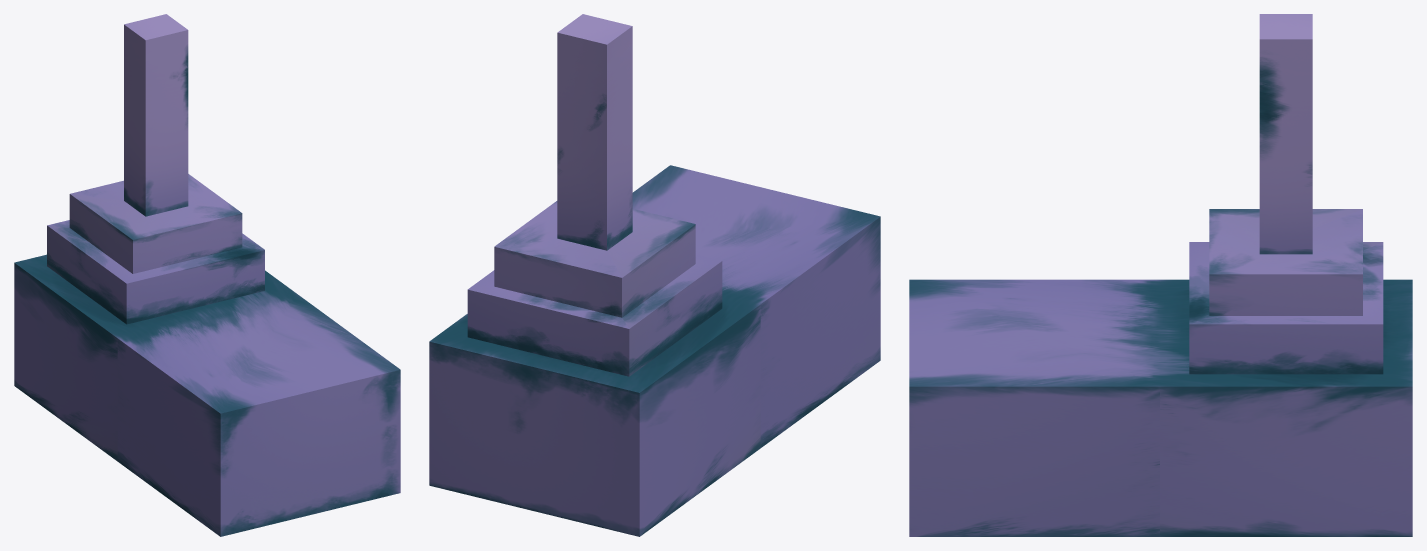
Rendered from Lápide.fbx.
3 renders of one model, left to right at view 1: azimuth 30°, elevation 25°; view 2: azimuth 150°, elevation 25°; view 3: azimuth 270°, elevation 25°, orthographic. The views are drawn at different scales.
Visible parts, largest first — view 1: Lapide; view 2: Lapide; view 3: Lapide.
Part boxes in pixels (x1=…): Lapide: x1=14, y1=14, x2=400, y2=536; Lapide: x1=429, y1=14, x2=880, y2=536; Lapide: x1=909, y1=14, x2=1412, y2=536.
Size of the model in its own units: 2.2 by 4.36 by 4.36.
